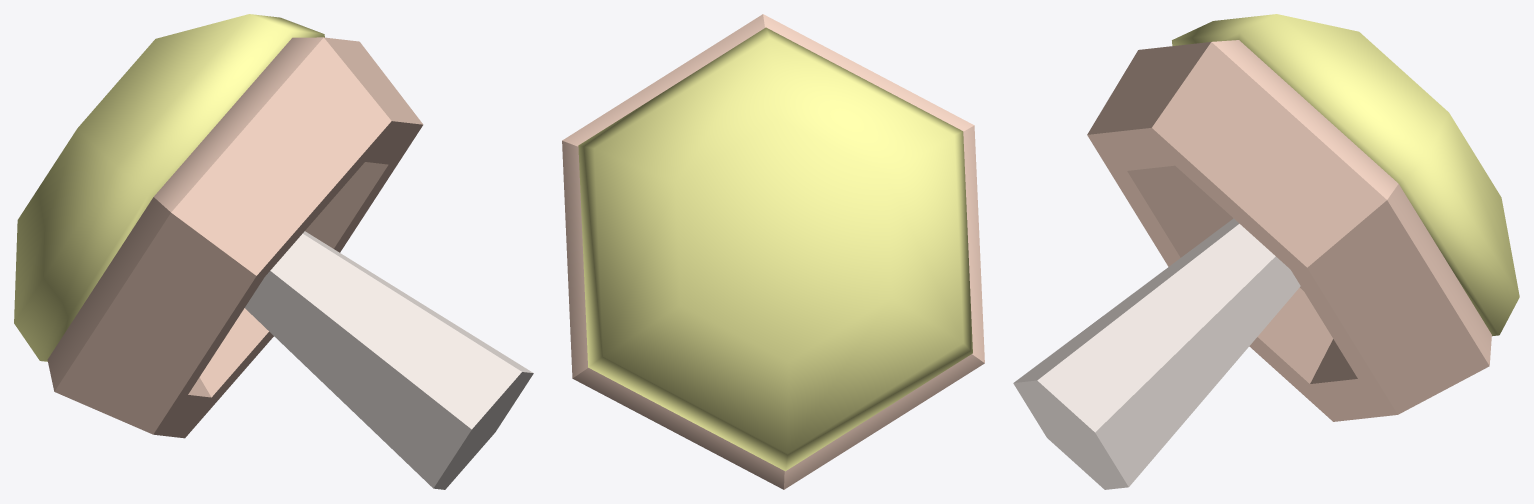
Rendered from StuffedMushroom.fbx.
3 renders of one model, left to right at view 1: azimuth 30°, elevation 25°; view 2: azimuth 150°, elevation 25°; view 3: azimuth 270°, elevation 25°, orthographic. The views are drawn at different scales.
Parts seen in each view (by area): view 1: mushroom_1; view 2: mushroom_1; view 3: mushroom_1.
Part boxes in pixels (box(x1,y1,x2,y2)): mushroom_1: box(14, 14, 533, 489); mushroom_1: box(562, 14, 984, 489); mushroom_1: box(1013, 14, 1519, 489).
Bounding box in the file's own units: 33.93 × 34.32 × 37.08.
